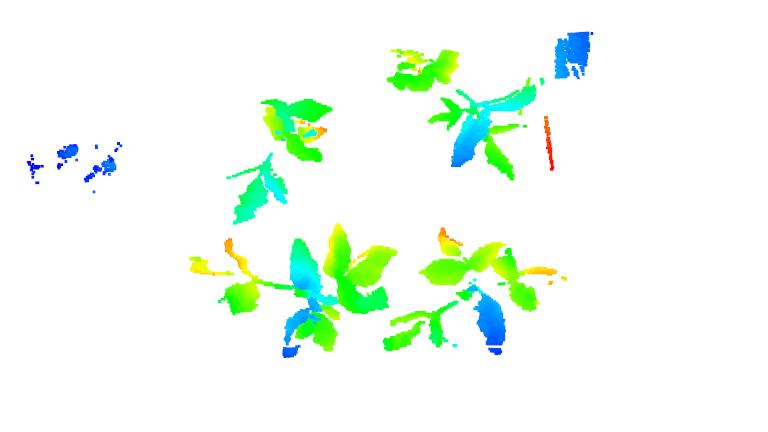mungbean: (208, 229, 393, 358), (390, 226, 558, 357), (386, 40, 539, 179), (230, 90, 331, 224)
